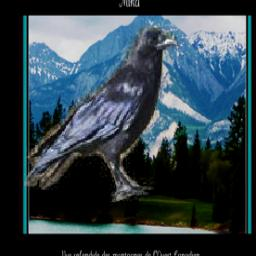Crow: (25, 20, 180, 203)
